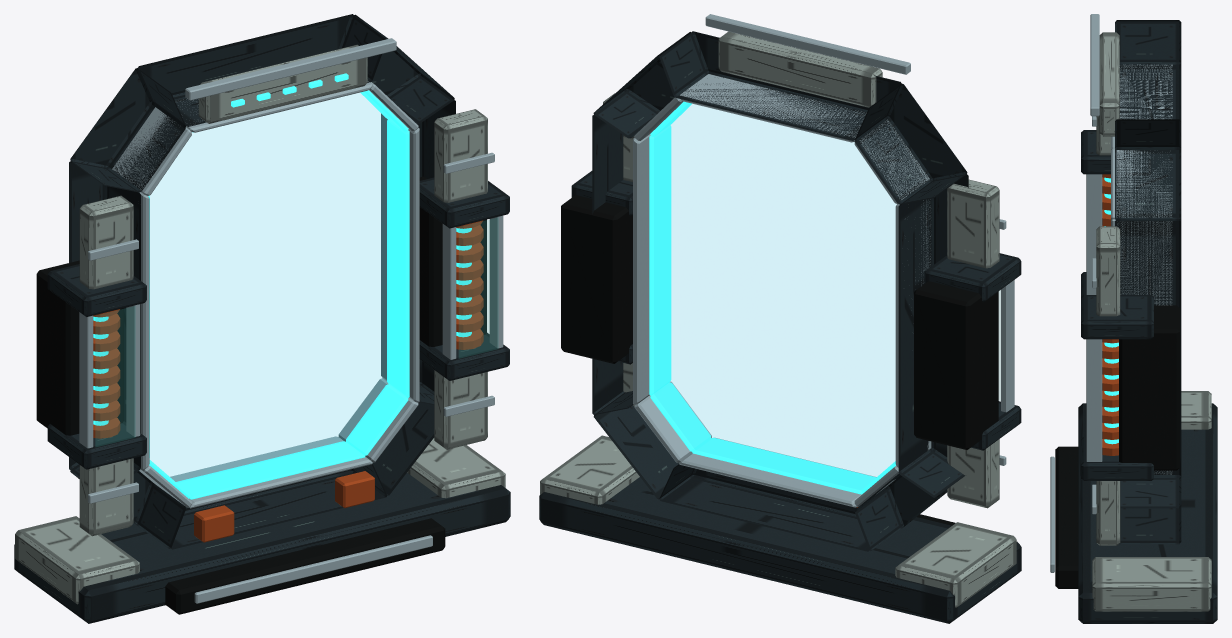
File: portal_pbr.glb
3 views of the same model, side by side, from view 1: azimuth 30°, elevation 25°; view 2: azimuth 150°, elevation 25°; view 3: azimuth 270°, elevation 25° (orthographic). The views are drawn at different scales.
Visible parts, largest first — view 1: PortalPBR_Energy_Membrane, PortalPBR_Ground_Plinth, PortalPBR_Frame_04, PortalPBR_Frame_05, PortalPBR_Front_Step, PortalPBR_Pod_Back_L, PortalPBR_Foot_L, PortalPBR_Inner_Light_02, PortalPBR_Glass_Window_L, PortalPBR_Glass_Window_R, PortalPBR_Frame_00, PortalPBR_Top_Armor (+31 smaller); view 2: PortalPBR_Energy_Membrane, PortalPBR_Ground_Plinth, PortalPBR_Pod_Back_L, PortalPBR_Pod_Back_R, PortalPBR_Frame_06, PortalPBR_Frame_04, PortalPBR_Frame_00, PortalPBR_Frame_05, PortalPBR_Top_Armor, PortalPBR_Foot_L, PortalPBR_Inner_Light_02, PortalPBR_Inner_Chrome_04 (+19 smaller); view 3: PortalPBR_Ground_Plinth, PortalPBR_Pod_Back_R, PortalPBR_Frame_02, PortalPBR_Frame_03, PortalPBR_Foot_R, PortalPBR_Frame_04, PortalPBR_Front_Step, PortalPBR_Pod_Cap_R_1, PortalPBR_Inner_Chrome_03, PortalPBR_Inner_Chrome_02, PortalPBR_Frame_01, PortalPBR_Ceramic_Shoulder_R_1 (+12 smaller).
Boxes of the visible parts, <box> form: PortalPBR_Energy_Membrane: <box>150,93,387,482</box>; PortalPBR_Ground_Plinth: <box>14,473,510,623</box>; PortalPBR_Frame_04: <box>138,14,386,126</box>; PortalPBR_Frame_05: <box>70,68,185,192</box>; PortalPBR_Front_Step: <box>165,518,445,614</box>; PortalPBR_Pod_Back_L: <box>36,260,123,435</box>; PortalPBR_Foot_L: <box>15,516,139,604</box>; PortalPBR_Inner_Light_02: <box>387,119,409,397</box>; PortalPBR_Glass_Window_L: <box>95,306,135,446</box>; PortalPBR_Glass_Window_R: <box>459,218,498,358</box>; PortalPBR_Frame_00: <box>171,464,387,549</box>; PortalPBR_Top_Armor: <box>198,44,367,123</box>; PortalPBR_Energy_Membrane: <box>654,103,896,489</box>; PortalPBR_Ground_Plinth: <box>539,477,1021,623</box>; PortalPBR_Pod_Back_L: <box>914,281,998,449</box>; PortalPBR_Pod_Back_R: <box>561,195,632,363</box>; PortalPBR_Frame_06: <box>898,174,968,497</box>; PortalPBR_Frame_04: <box>659,31,901,140</box>; PortalPBR_Frame_00: <box>659,464,869,551</box>; PortalPBR_Frame_05: <box>855,83,967,204</box>; PortalPBR_Top_Armor: <box>718,31,882,107</box>; PortalPBR_Foot_L: <box>895,522,1016,607</box>; PortalPBR_Inner_Light_02: <box>649,125,671,395</box>; PortalPBR_Inner_Chrome_04: <box>680,74,866,142</box>; PortalPBR_Ground_Plinth: <box>1078,403,1217,623</box>; PortalPBR_Pod_Back_R: <box>1119,305,1179,470</box>; PortalPBR_Frame_02: <box>1115,220,1181,508</box>; PortalPBR_Frame_03: <box>1115,119,1181,220</box>; PortalPBR_Foot_R: <box>1092,557,1211,611</box>; PortalPBR_Frame_04: <box>1115,20,1181,120</box>; PortalPBR_Front_Step: <box>1055,446,1078,588</box>; PortalPBR_Pod_Cap_R_1: <box>1081,295,1153,339</box>; PortalPBR_Inner_Chrome_03: <box>1111,149,1172,219</box>; PortalPBR_Inner_Chrome_02: <box>1111,219,1172,474</box>; PortalPBR_Frame_01: <box>1119,506,1181,544</box>; PortalPBR_Ceramic_Shoulder_R_1: <box>1096,226,1120,316</box>.
Size of the model in its own units: 3.48 by 3.9 by 1.26.
8 materials, 8 textured.
